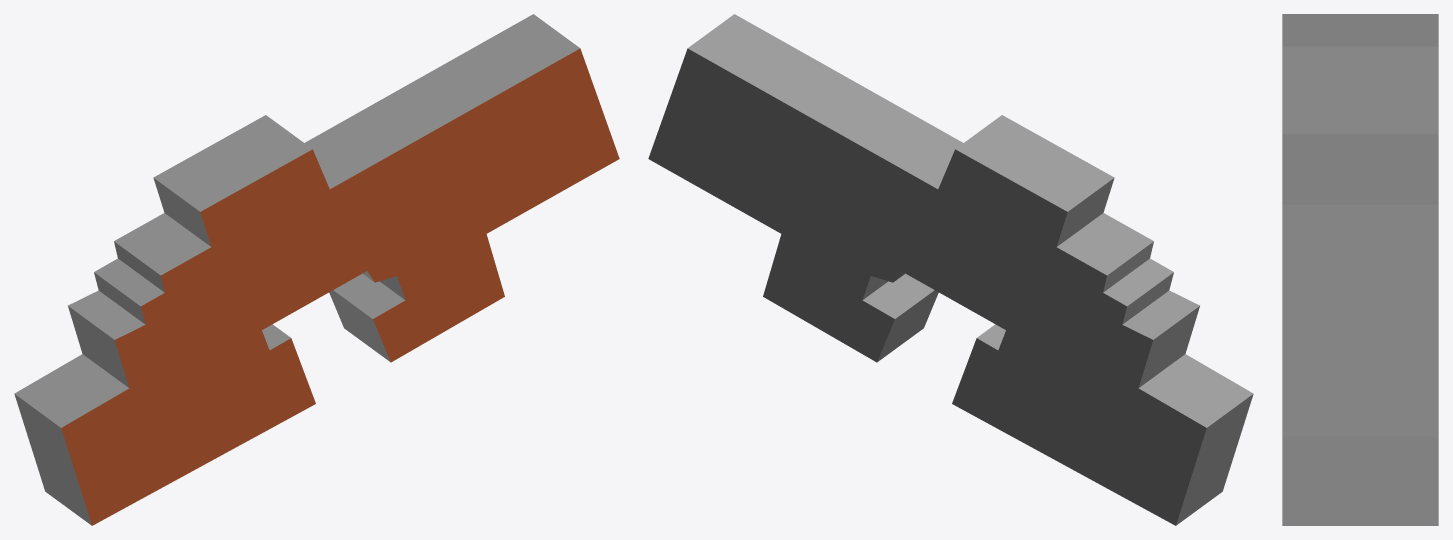
Rendered from construction_4231_assumed_A_Casa_h6m.obj.
The picture shows the model from 3 angles, left to right: view 1: azimuth 30°, elevation 25°; view 2: azimuth 150°, elevation 25°; view 3: azimuth 270°, elevation 25°; orthographic projection. The views are drawn at different scales.
Visible parts, largest first — view 1: construction_4231_assumed_A_Casa; view 2: construction_4231_assumed_A_Casa; view 3: construction_4231_assumed_A_Casa.
Boxes of the visible parts, box(x1,y1,x2,y2) form: construction_4231_assumed_A_Casa: box(14, 14, 619, 525); construction_4231_assumed_A_Casa: box(648, 14, 1253, 525); construction_4231_assumed_A_Casa: box(1282, 14, 1438, 525).
Bounding box in the file's own units: 41.23 × 25.29 × 6.
